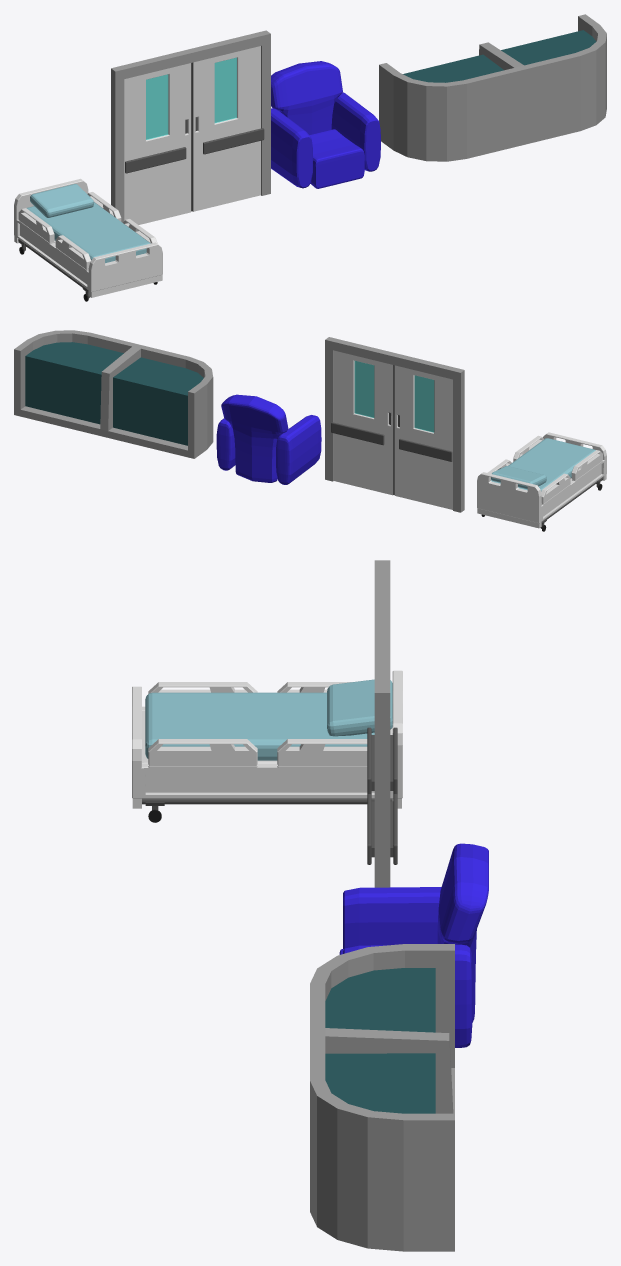
The model's file is Hospitalprops.fbx.
The picture shows the model from 3 angles, top to bottom: view 1: azimuth 30°, elevation 25°; view 2: azimuth 150°, elevation 25°; view 3: azimuth 270°, elevation 25°; orthographic projection. The views are drawn at different scales.
Parts seen in each view (by area): view 1: Cube, Cube.001, Cube.002, Armchair; view 2: Cube, Cube.001, Cube.002, Armchair; view 3: Cube.001, Cube.002, Armchair, Cube.
Boxes of the visible parts, left/top/right/bottom form: Cube: left=111, top=30, right=270, bottom=224; Cube.001: left=379, top=14, right=606, bottom=161; Cube.002: left=14, top=178, right=162, bottom=301; Armchair: left=271, top=61, right=380, bottom=188; Cube: left=325, top=337, right=464, bottom=512; Cube.001: left=14, top=330, right=213, bottom=458; Cube.002: left=477, top=432, right=606, bottom=531; Armchair: left=216, top=394, right=321, bottom=484; Cube.001: left=310, top=944, right=454, bottom=1251; Cube.002: left=132, top=670, right=402, bottom=822; Armchair: left=339, top=843, right=488, bottom=1047; Cube: left=367, top=560, right=397, bottom=887.
Size of the model in its own units: 3832 by 1006 by 1157.
